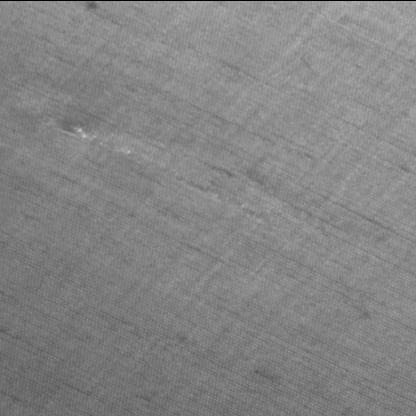thread error: (50, 113, 176, 175)
